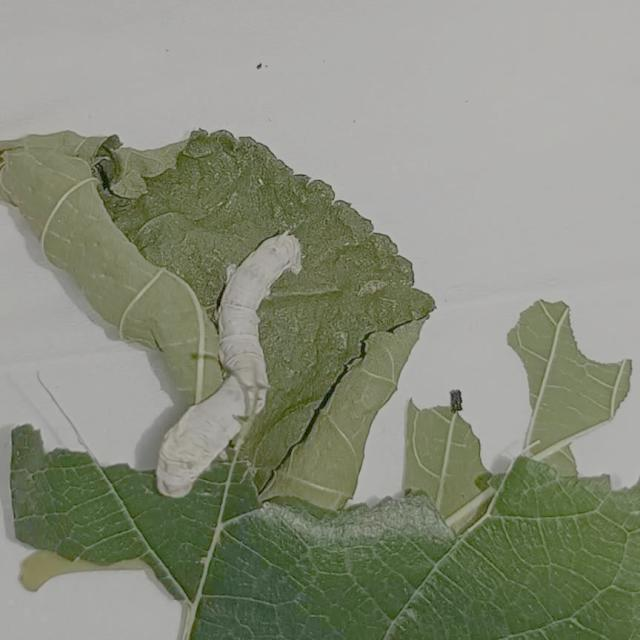Healthy: (123, 194, 360, 539)
